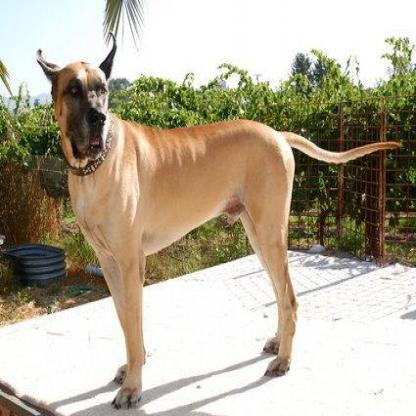Great_Dane: (34, 29, 402, 411)
